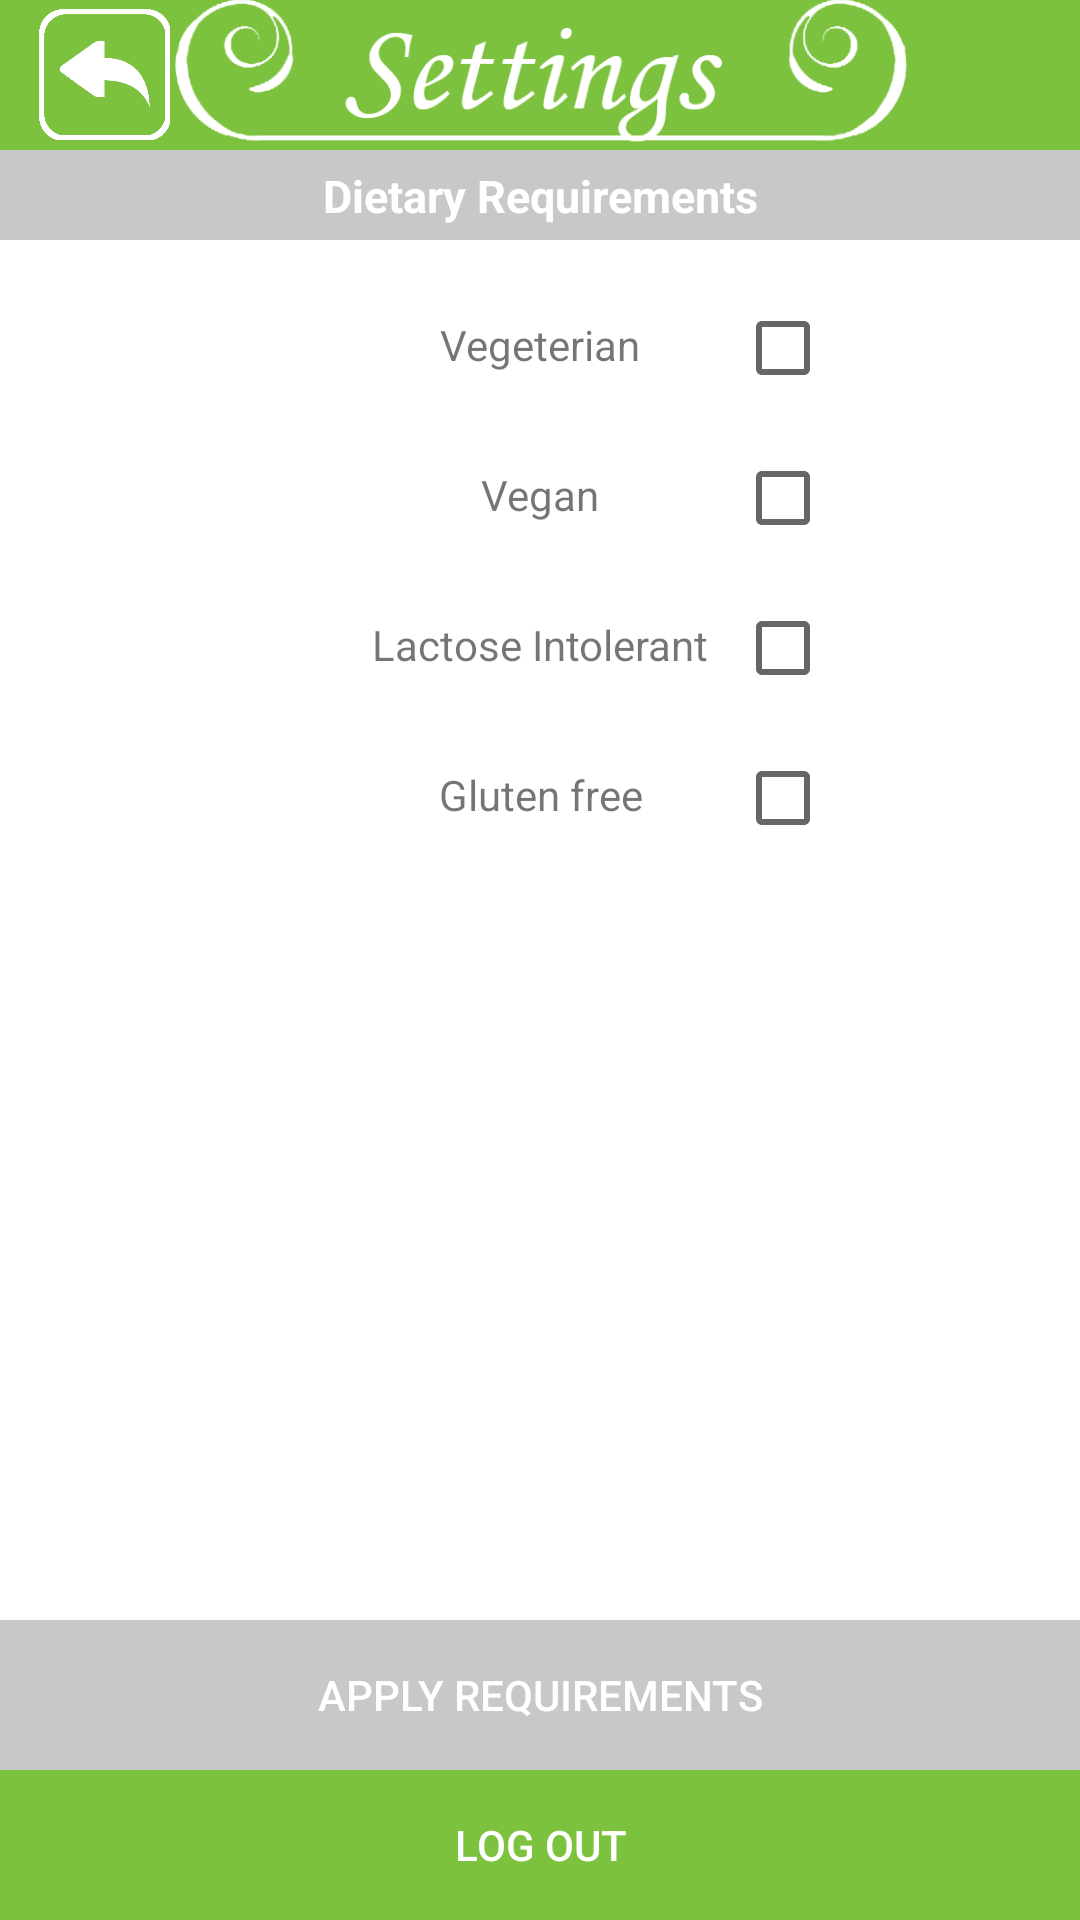

Screen size 1080 x 1920. Icon name, then its center in pixels as [x,y]:
backbutton: [104,74]
